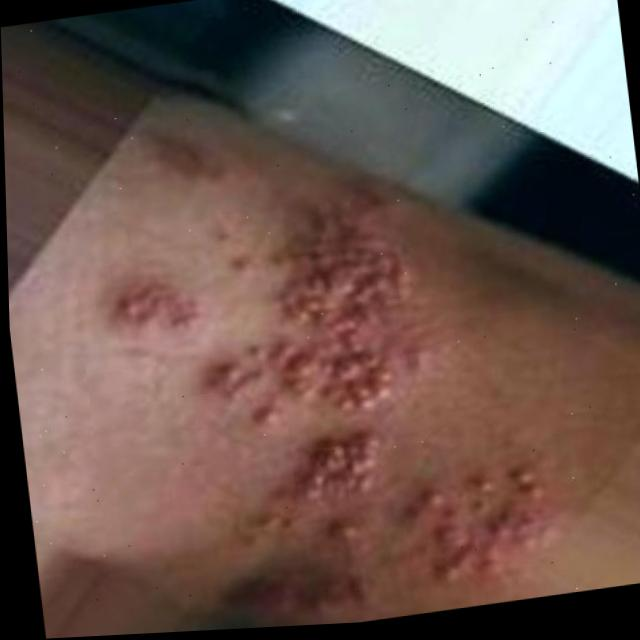Shingles: (218, 397, 566, 629), (222, 182, 415, 435), (95, 256, 208, 338)
